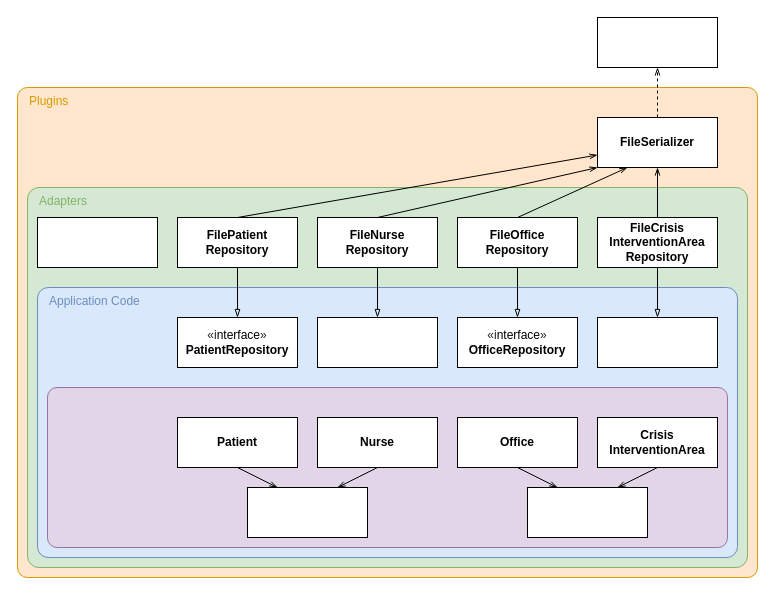
The diagram is 775 pixels wide and 595 high, and some of its shapes have lost their labels. The shapes that lost their labels are listed below. From the top down, each one's box as (x1, y1, x2, y2) in pixels, then its label:
(596, 16, 718, 68): Gson
(36, 216, 158, 268): ConsoleAdapter
(316, 316, 438, 368): «i nterface » NurseRepository
(596, 316, 718, 368): «i nterface » CrisisIntervention AreaRepository
(46, 386, 728, 548): Domain Code
(246, 486, 368, 538): PersonalData
(526, 486, 648, 538): RoomData
